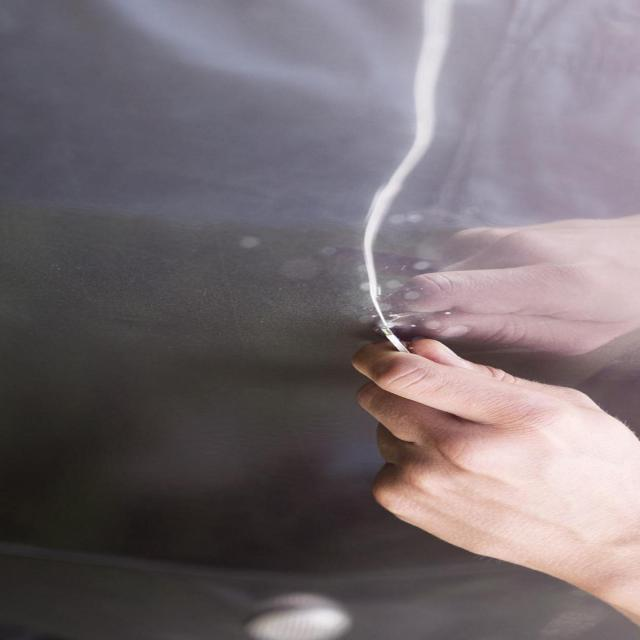scratch: (348, 67, 404, 338)
